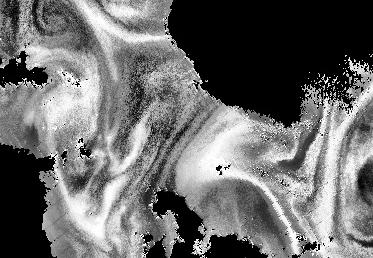CE: (30, 1, 80, 41)
